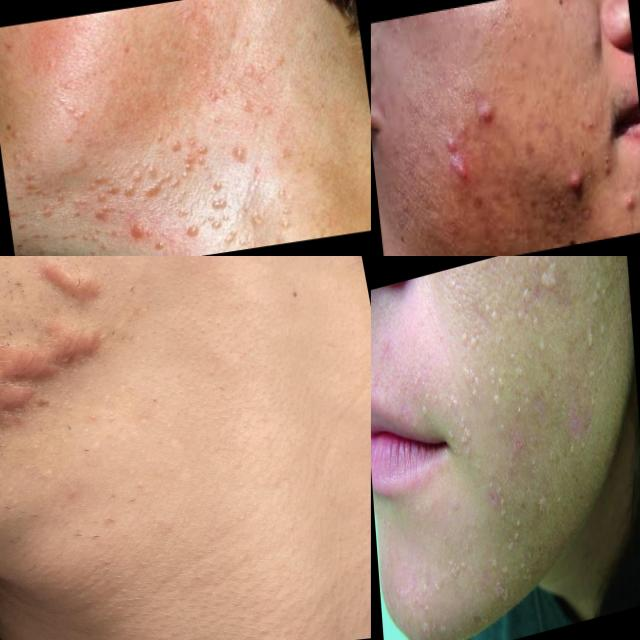6: (0, 314, 127, 459), (32, 256, 112, 310), (209, 192, 235, 231), (182, 221, 206, 244), (140, 180, 162, 205)
7: (458, 415, 475, 465), (538, 272, 556, 295), (450, 563, 461, 585)
8: (429, 125, 464, 159), (123, 217, 157, 245)
9: (620, 190, 638, 215)
blackheads: (563, 403, 584, 447), (503, 422, 522, 462), (482, 482, 500, 519)
pustules: (436, 150, 480, 195), (472, 92, 499, 129), (565, 165, 588, 196)
